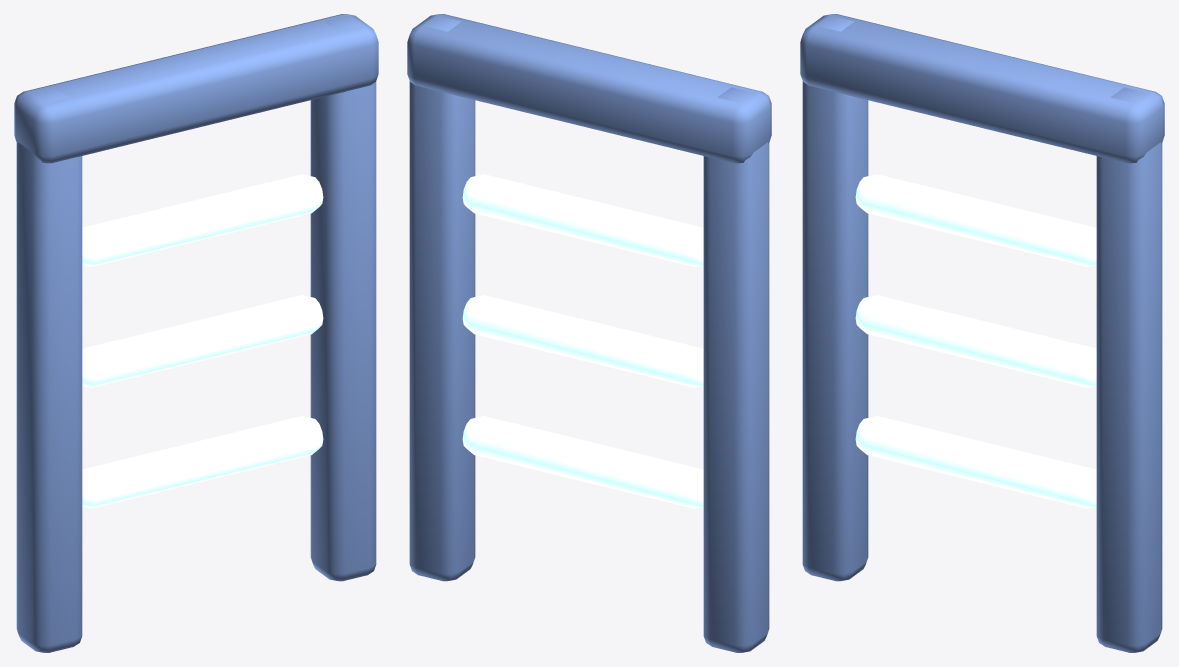
File: RelayGate.glb
The picture shows the model from 3 angles, left to right: view 1: azimuth 30°, elevation 25°; view 2: azimuth 150°, elevation 25°; view 3: azimuth 330°, elevation 25°; orthographic projection.
Visible parts, largest first — view 1: RelayGate_post-0.42, RelayGate_post0.42, RelayGate_beam, RelayGate_slat0, RelayGate_slat1, RelayGate_slat2; view 2: RelayGate_post-0.42, RelayGate_post0.42, RelayGate_beam, RelayGate_slat0, RelayGate_slat1, RelayGate_slat2; view 3: RelayGate_post0.42, RelayGate_post-0.42, RelayGate_beam, RelayGate_slat0, RelayGate_slat1, RelayGate_slat2.
Part boxes in pixels (x1,y1,x2,y2): RelayGate_post-0.42: (16, 87, 82, 652); RelayGate_post0.42: (310, 15, 376, 581); RelayGate_beam: (14, 14, 378, 163); RelayGate_slat0: (82, 416, 323, 508); RelayGate_slat1: (82, 295, 323, 387); RelayGate_slat2: (82, 174, 323, 266); RelayGate_post-0.42: (703, 87, 769, 652); RelayGate_post0.42: (409, 15, 475, 581); RelayGate_beam: (407, 14, 771, 163); RelayGate_slat0: (462, 416, 703, 508); RelayGate_slat1: (462, 295, 703, 387); RelayGate_slat2: (462, 174, 703, 266); RelayGate_post0.42: (1096, 87, 1162, 652); RelayGate_post-0.42: (802, 15, 868, 581); RelayGate_beam: (800, 14, 1164, 163); RelayGate_slat0: (855, 416, 1096, 508); RelayGate_slat1: (855, 295, 1096, 387); RelayGate_slat2: (855, 174, 1096, 266).
Bounding box in the file's own units: 0.9147 × 1.4 × 0.1493.
